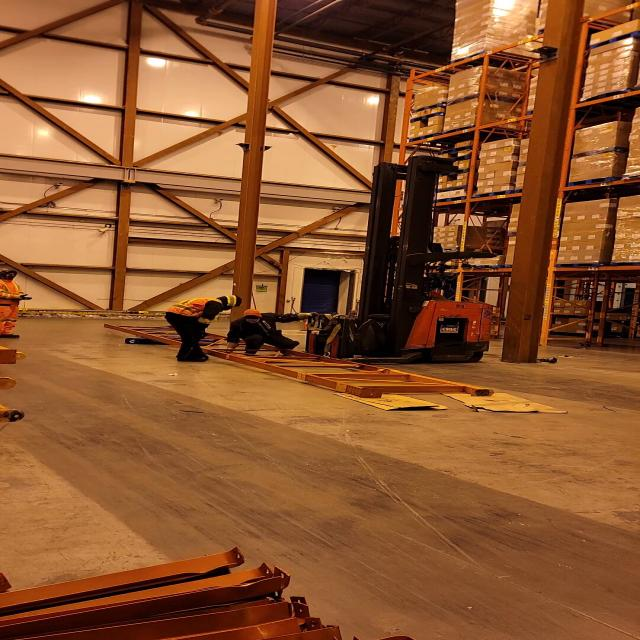forklift: (282, 162, 496, 366)
human: (152, 293, 242, 363), (221, 306, 321, 358), (0, 262, 30, 342)
objectofinterest: (98, 321, 494, 398), (439, 386, 577, 415), (330, 388, 450, 414), (117, 329, 185, 348)
